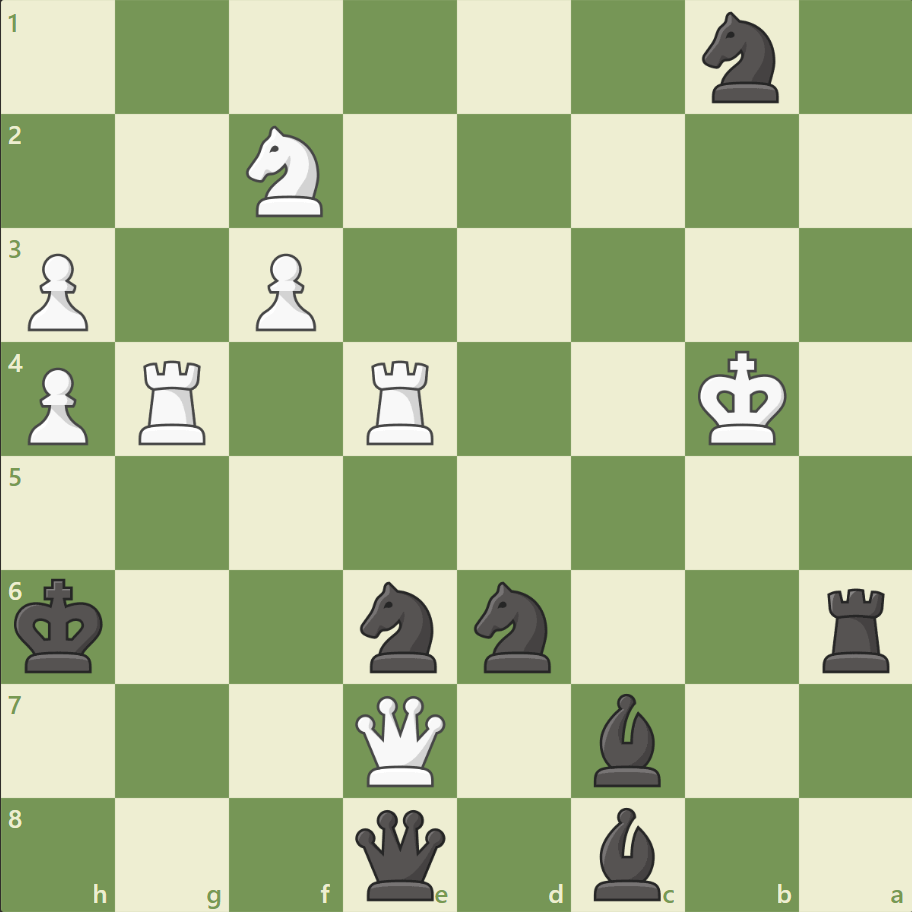K: (692, 344, 792, 452)
N: (238, 121, 335, 223)
P: (20, 359, 95, 450), (247, 246, 322, 337), (20, 246, 95, 337)
Q: (351, 690, 450, 789)
R: (360, 352, 442, 449), (133, 352, 215, 449)
b: (585, 801, 669, 904), (585, 687, 669, 790)
k: (11, 571, 111, 679)
n: (351, 575, 449, 677), (692, 7, 789, 110), (465, 575, 562, 677)
q: (351, 804, 450, 903)
r: (814, 579, 897, 676)
